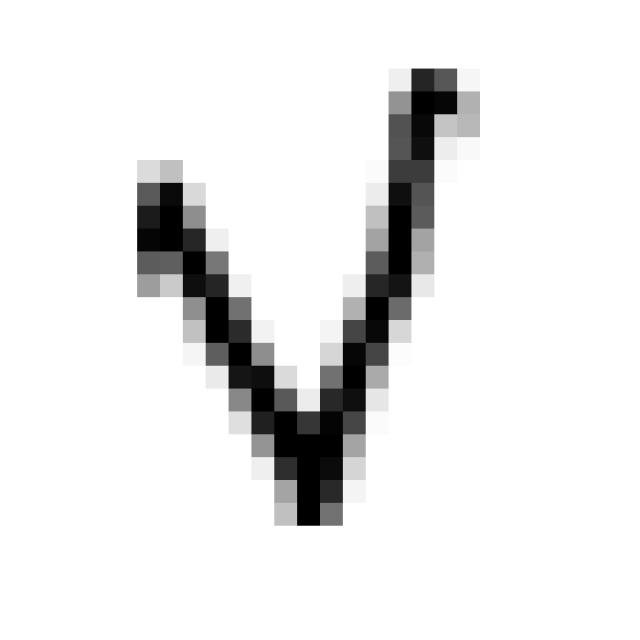7 -seven-: (117, 50, 496, 544)
